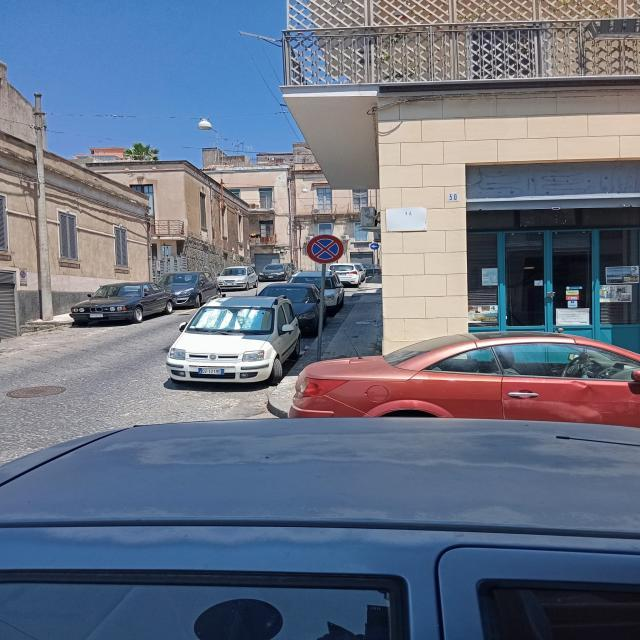forb_waiting: (306, 234, 344, 264)
